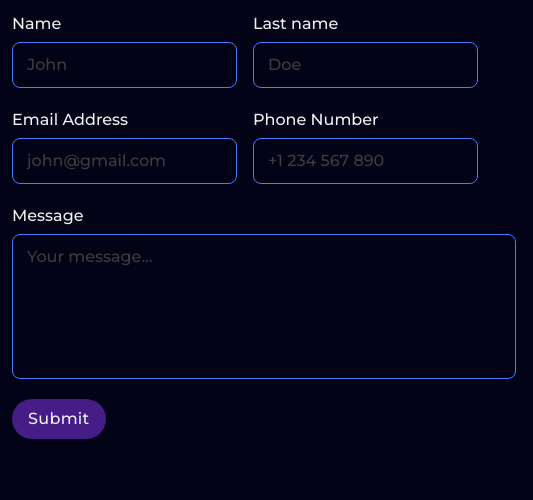
it: ContactForm › shows validation errors when submitted with empty fields
The image size is (533, 500).
Step 1. Click the button "Submit" → (59, 419), box [12,399,106,439]
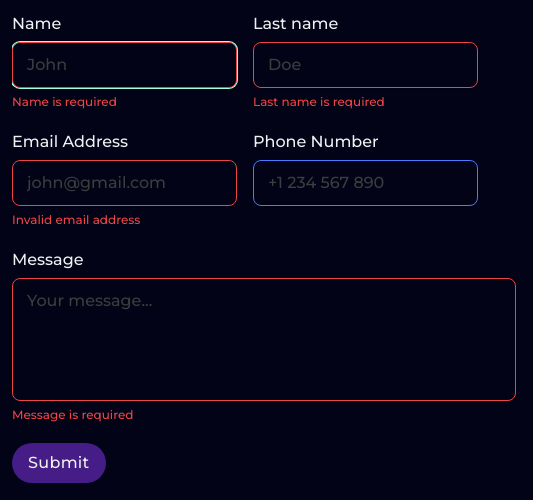
Expected: the text "Name is required" is shown, [12,94,117,110]
